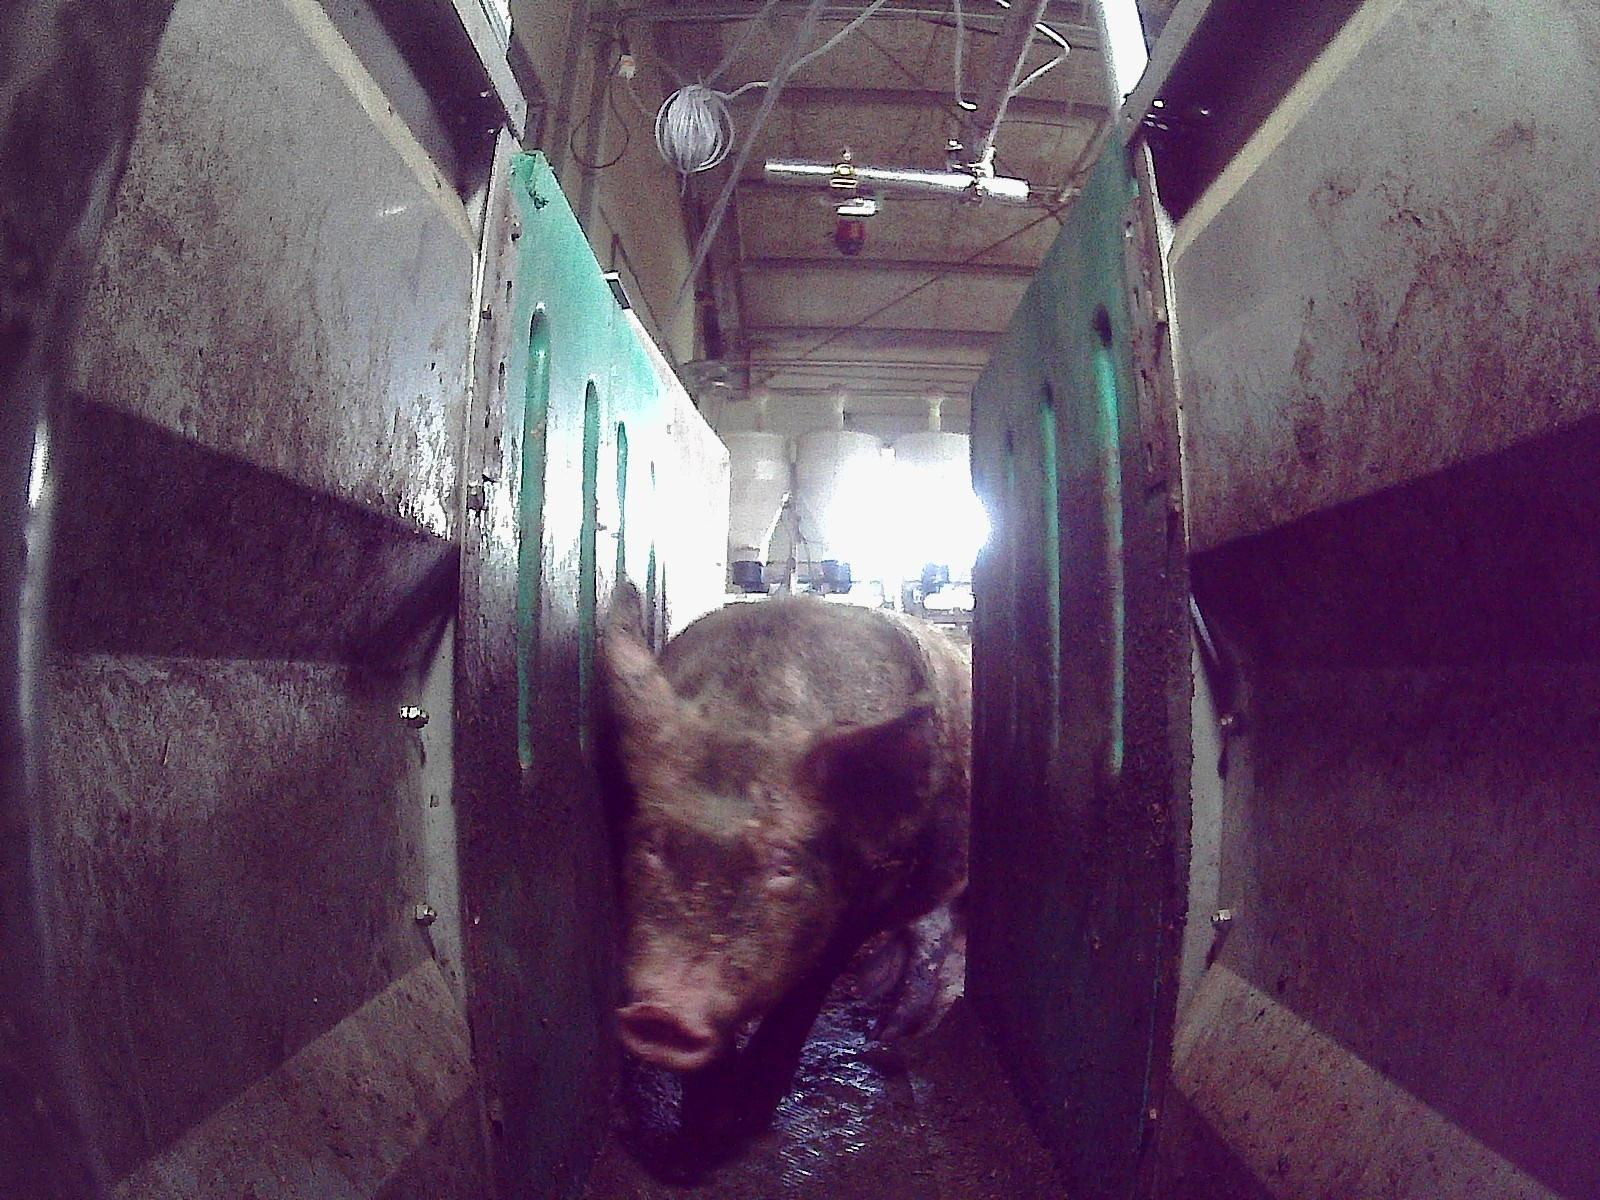Face: (616, 711, 844, 1067)
